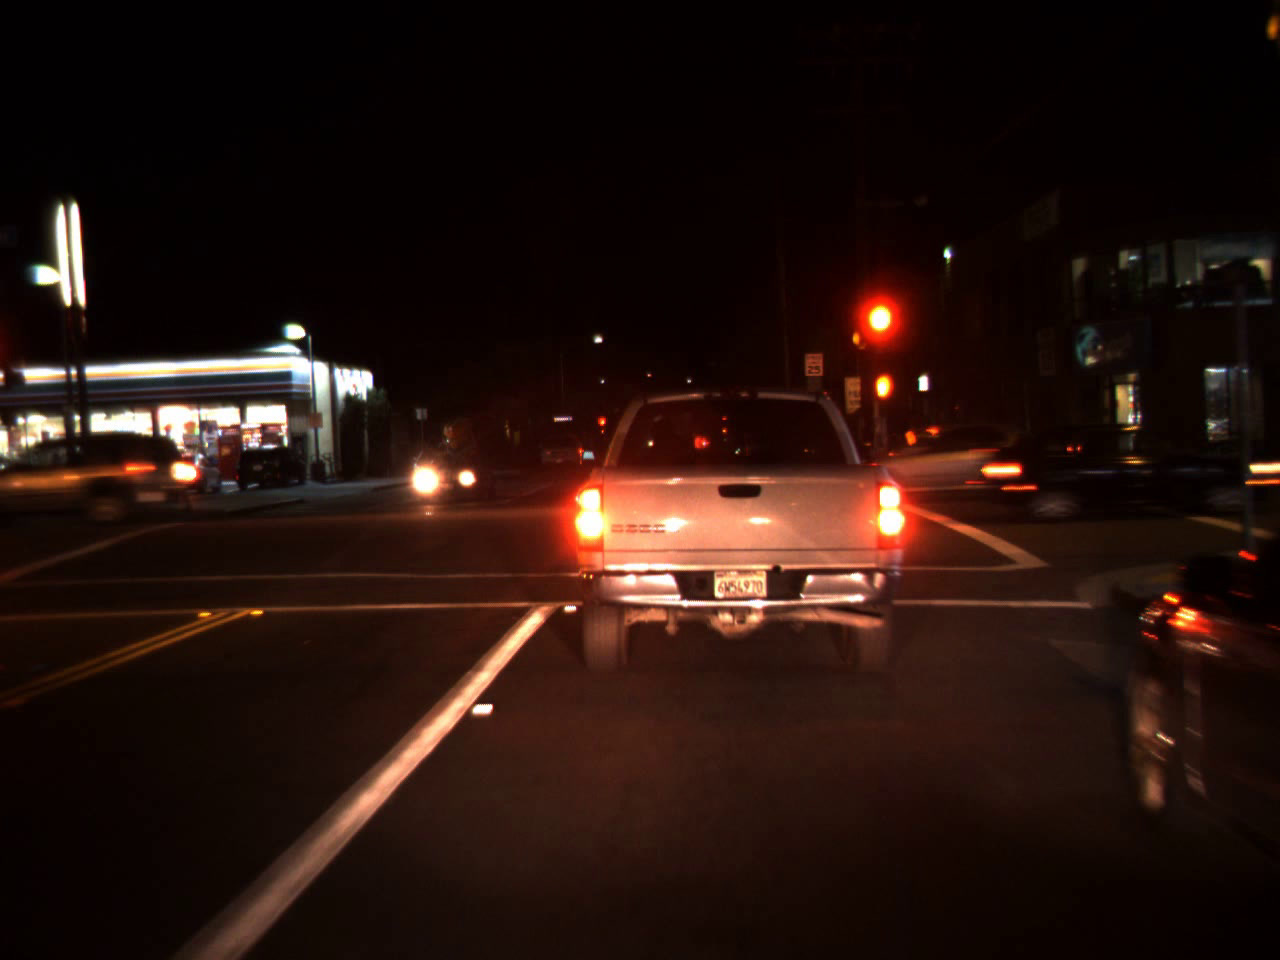stop: (861, 301, 897, 365), (597, 416, 607, 437)
